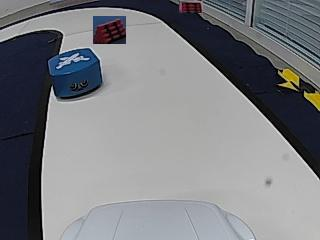spy: (57, 52, 89, 68)
